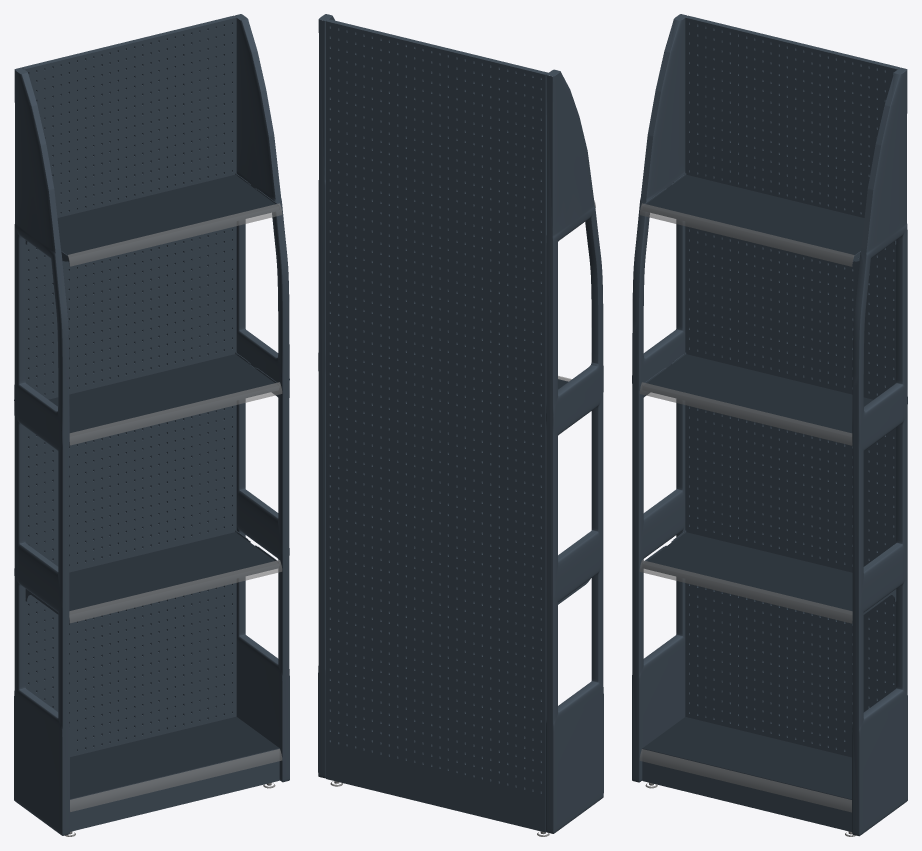
Rendered from MINI SHELVES.glb.
3 views of the same model, side by side, from view 1: azimuth 30°, elevation 25°; view 2: azimuth 150°, elevation 25°; view 3: azimuth 330°, elevation 25° (orthographic). The views are drawn at different scales.
Bounding box in the file's own units: 0.4309 × 1.33 × 0.1592.
